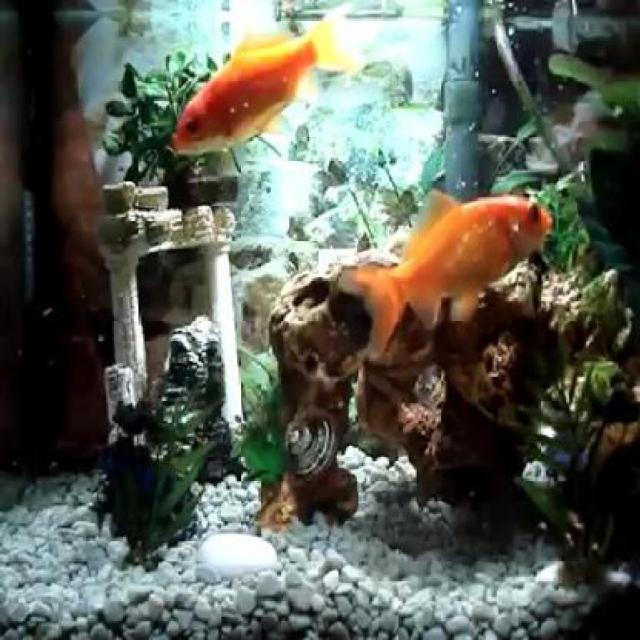GoldFish: (358, 181, 552, 361), (173, 15, 342, 153)
